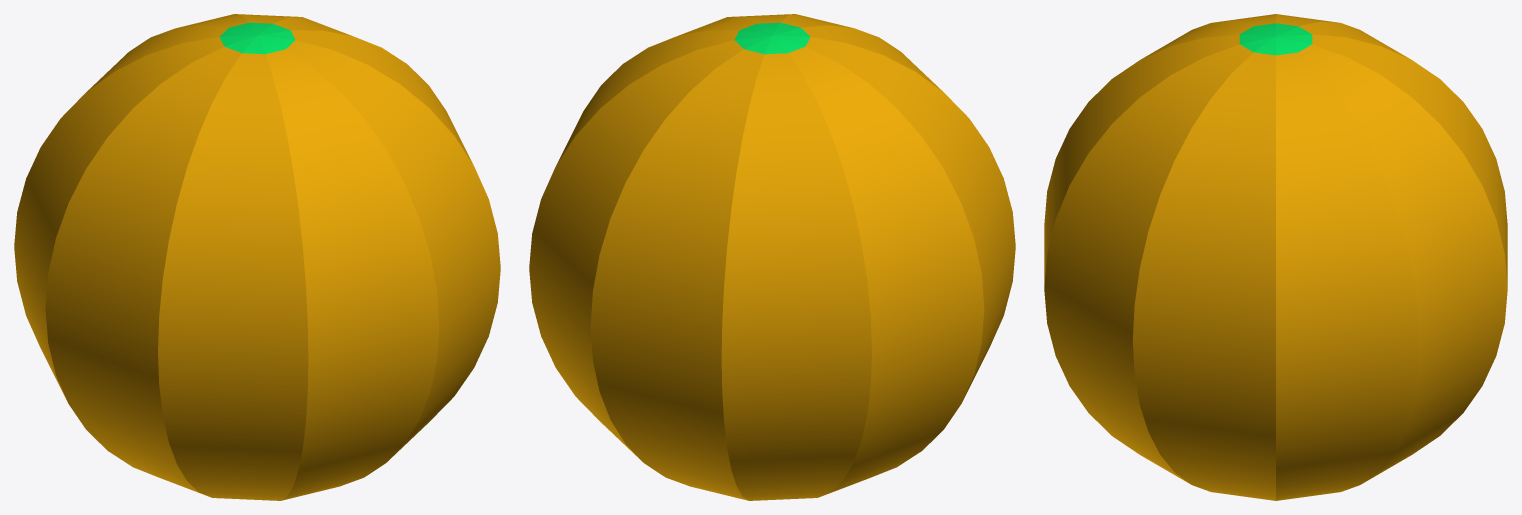
Rendered from みかん.fbx.
3 renders of one model, left to right at view 1: azimuth 30°, elevation 25°; view 2: azimuth 150°, elevation 25°; view 3: azimuth 270°, elevation 25°, orthographic.
Visible parts, largest first — view 1: pSphere9; view 2: pSphere9; view 3: pSphere9.
Boxes of the visible parts, x1,y1,x2,y2 form: pSphere9: (14,14,500,500); pSphere9: (529,14,1015,500); pSphere9: (1044,14,1507,500).
Bounding box in the file's own units: 8.46 × 8.46 × 8.05.
